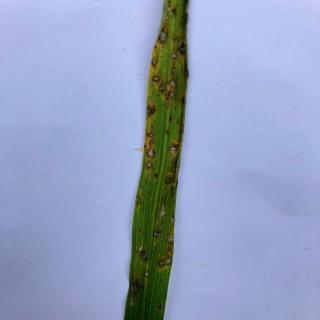Blast: (144, 130, 163, 176), (155, 71, 179, 100), (152, 20, 171, 50), (154, 251, 178, 274), (164, 135, 182, 159), (136, 243, 152, 269), (125, 278, 144, 299), (155, 169, 172, 192), (165, 46, 191, 60), (164, 230, 184, 248), (142, 102, 156, 120), (149, 58, 165, 72)
